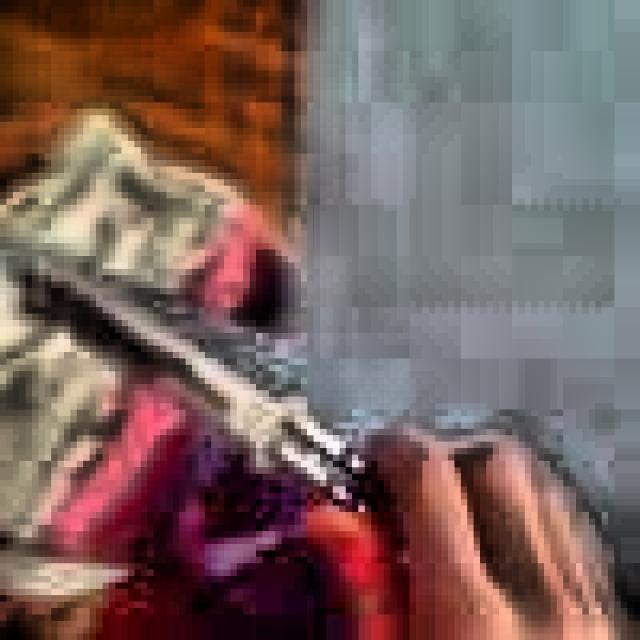knife: (10, 234, 400, 539)
